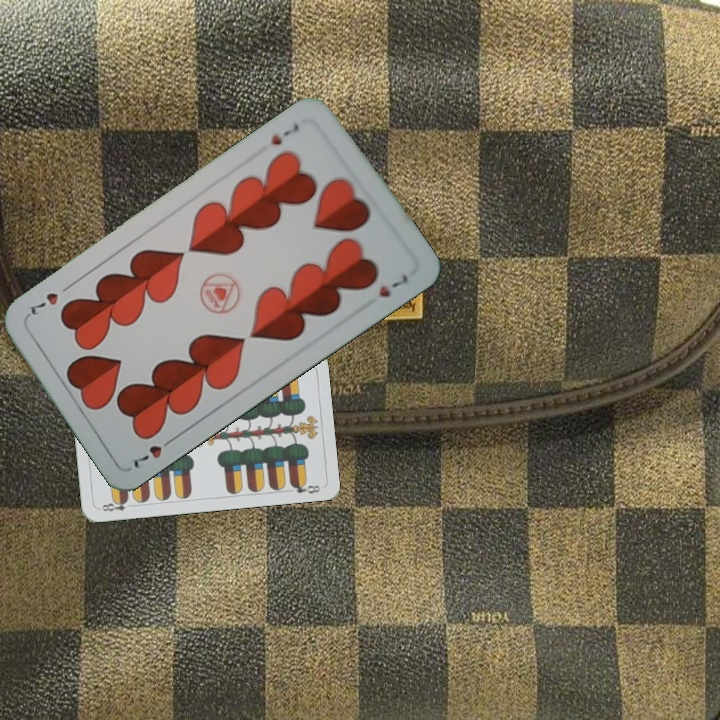E8: (96, 495, 136, 514)
H7: (129, 432, 179, 472), (267, 119, 302, 148)
